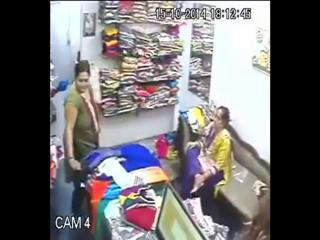Normal: (63, 61, 101, 178)
